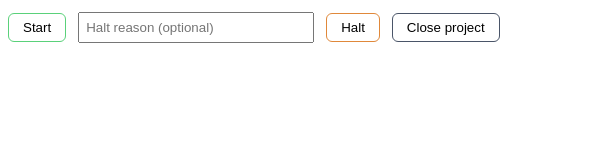
Test: ProjectControls › halts with the operator's reason and flips to a Resume control
expect the button "Halt" is shown: met, box [326,13,380,42]
Type "pausing for review" into the field labelled "Halt reason" at point(196, 28), box [78,12,314,43]
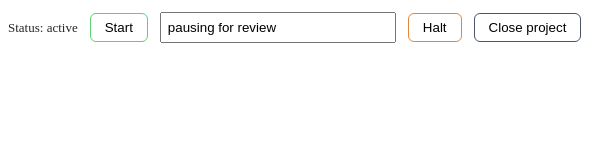
Click the button "Halt" at point(435, 28), box [408,13,462,42]
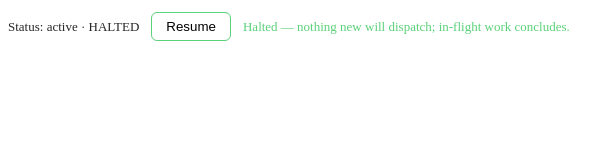
expect the button "Resume" is shown: met, box [151,12,231,41]
expect the button "Start" is gone: met
expect the text with test id "project-state" shows "HALTED": met, box [78,18,139,34]
